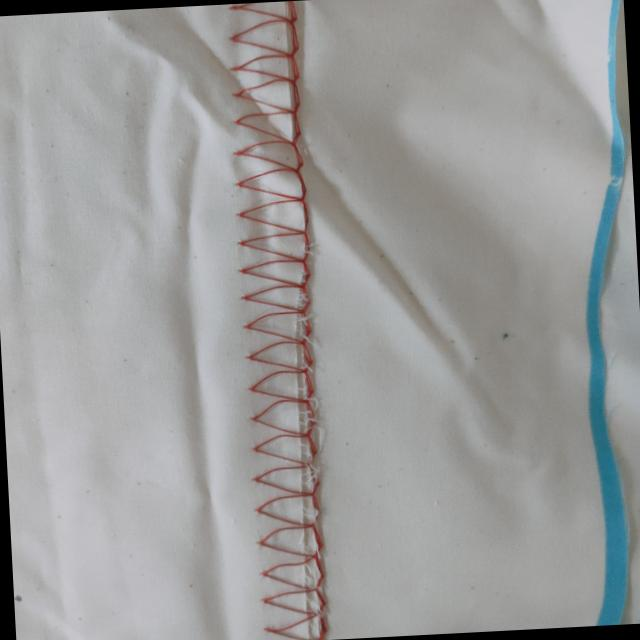gray stitch: (223, 0, 343, 640)
